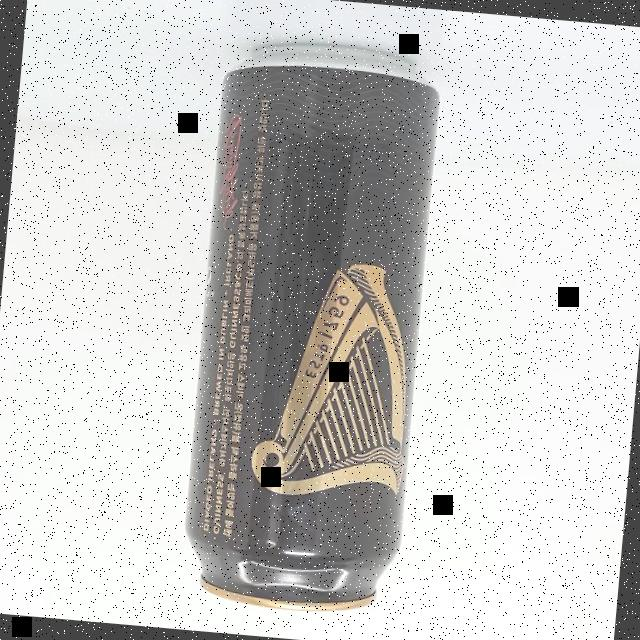can: (176, 35, 443, 619)
